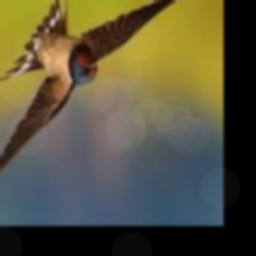Swallow: (0, 0, 196, 198)
